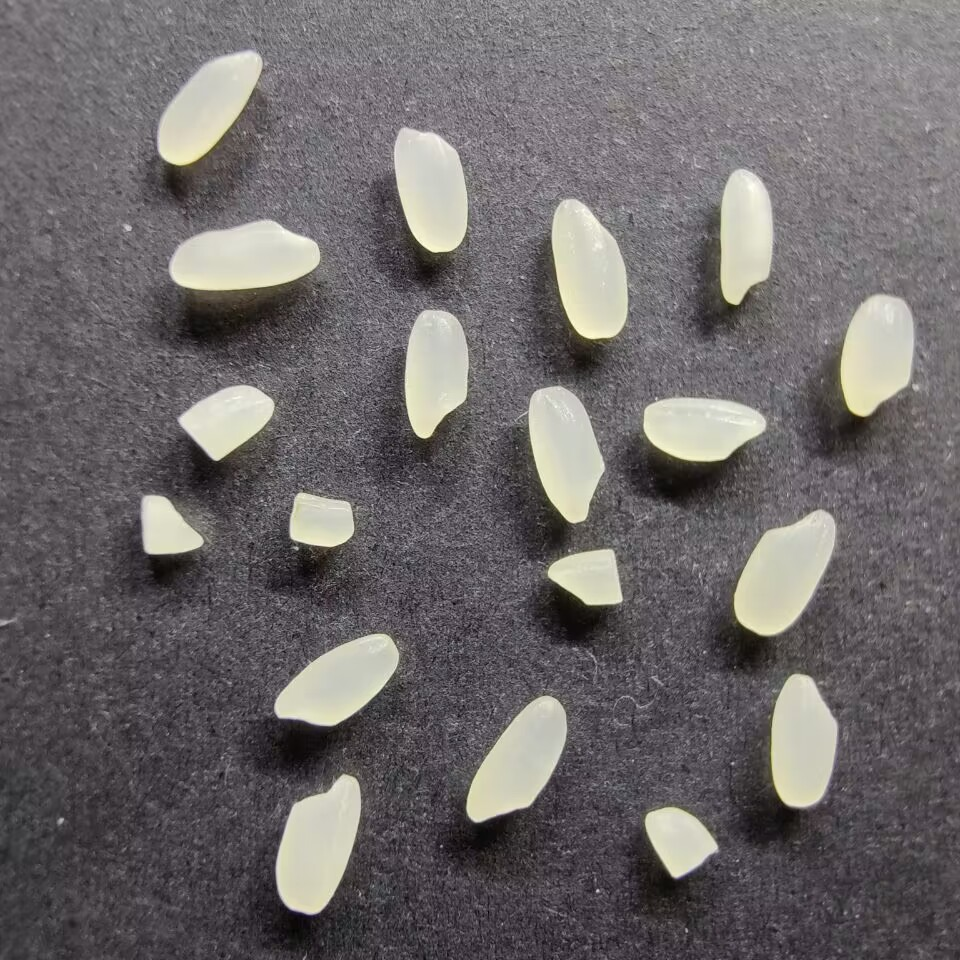broken: (176, 383, 274, 463), (643, 805, 720, 879), (545, 547, 624, 609), (139, 492, 206, 558), (285, 490, 357, 549)
rice: (733, 507, 838, 638), (466, 695, 570, 825), (153, 49, 263, 166), (273, 771, 362, 915), (270, 631, 401, 726), (549, 197, 630, 340), (168, 218, 322, 290), (528, 385, 606, 526), (391, 124, 471, 254), (767, 673, 839, 807), (840, 293, 915, 417), (401, 308, 469, 440), (640, 397, 767, 463), (717, 169, 774, 306)
